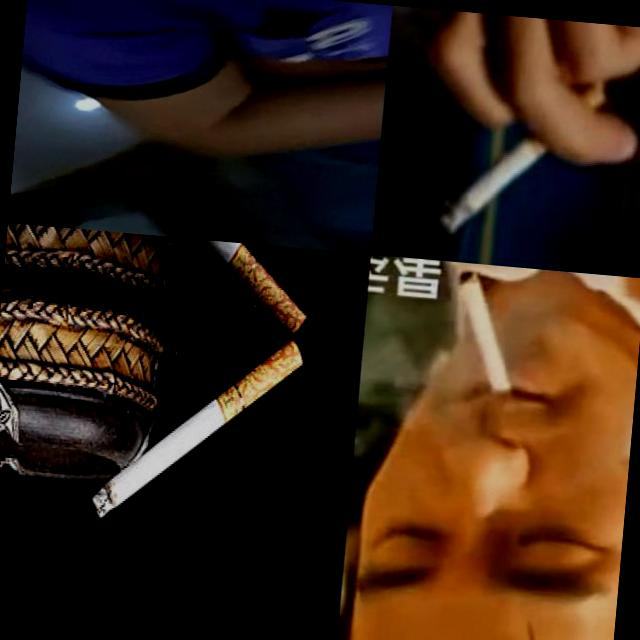cigarette: (87, 321, 306, 538), (432, 126, 551, 248), (446, 270, 520, 398)
